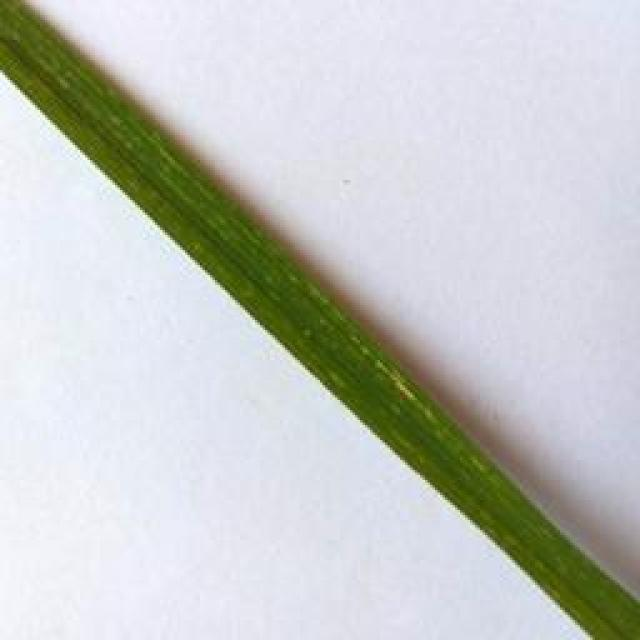Bacterial_Blight: (348, 331, 458, 455)
